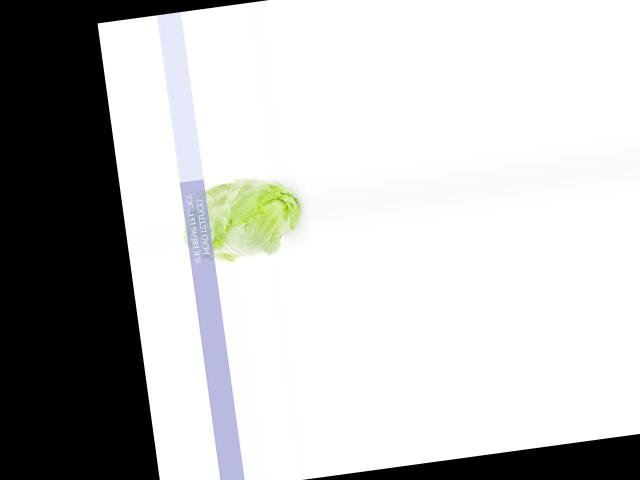lettuce: (176, 174, 311, 267)
